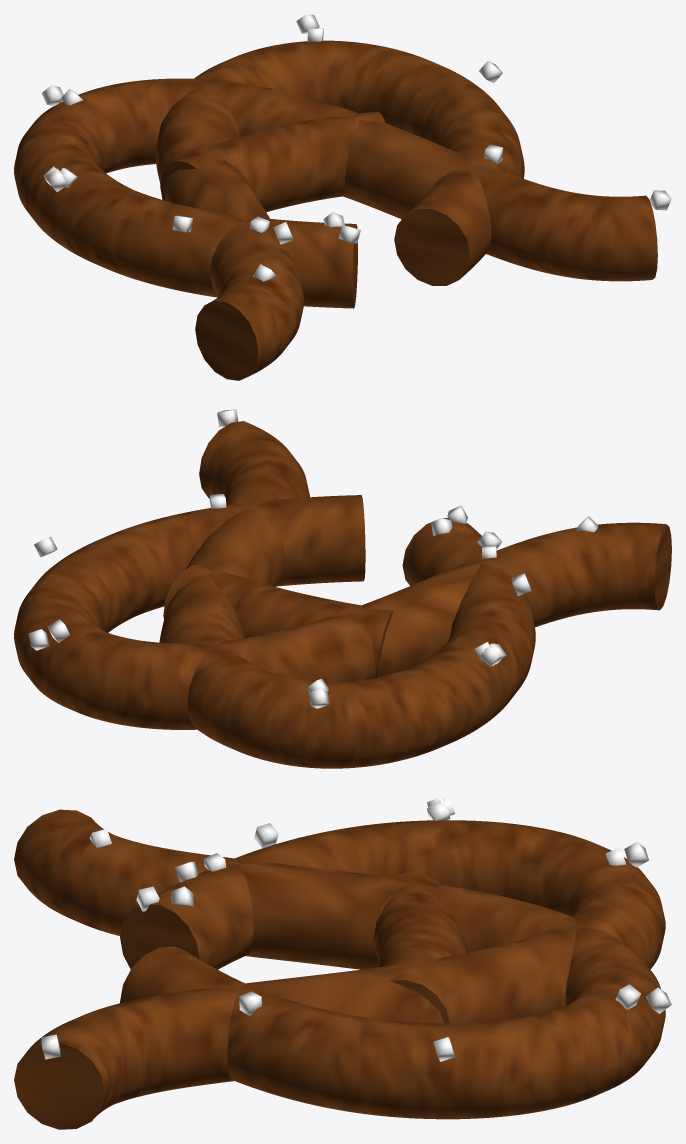
Rendered from brezel.glb.
3 renders of one model, top to bottom at view 1: azimuth 30°, elevation 25°; view 2: azimuth 150°, elevation 25°; view 3: azimuth 270°, elevation 25°, orthographic. The views are drawn at different scales.
Visible parts, largest first — view 1: p0; view 2: p0; view 3: p0.
Part boxes in pixels (<box>): p0: <box>14,14,671,380</box>; p0: <box>14,409,671,768</box>; p0: <box>14,797,671,1129</box>.
Size of the model in its own units: 0.0521 by 0.0096 by 0.0577.
